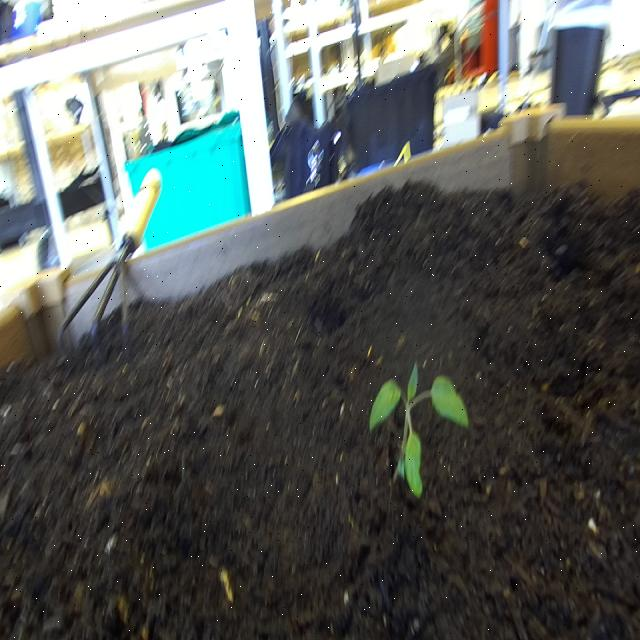Healthy: (360, 357, 476, 511)
